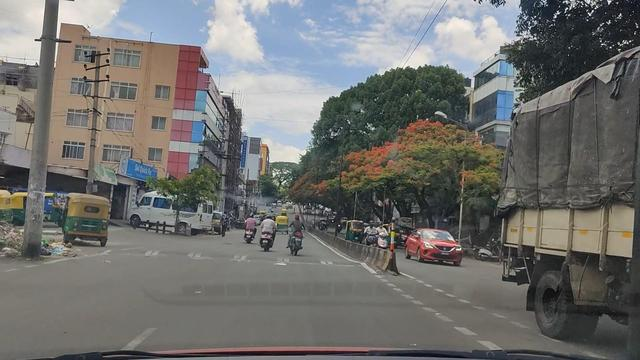LMV: (60, 193, 110, 246), (260, 209, 278, 251), (288, 215, 306, 254)
SpeedBump: (105, 251, 364, 264)
